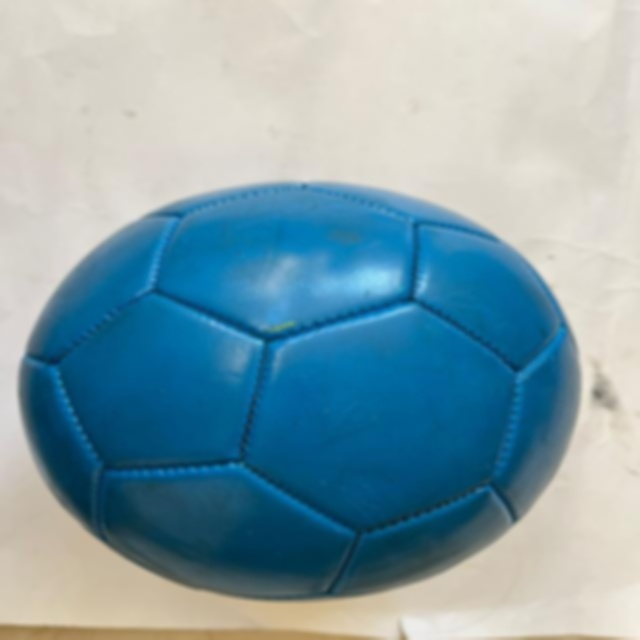blue_ball: (22, 176, 584, 604)
